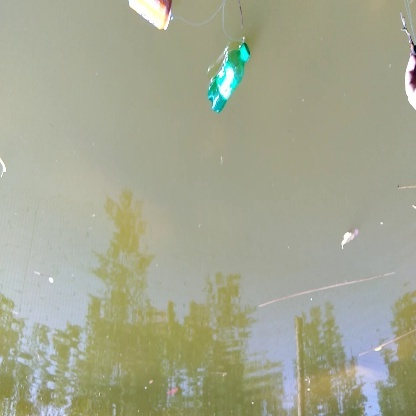bottle: (202, 38, 259, 120)
